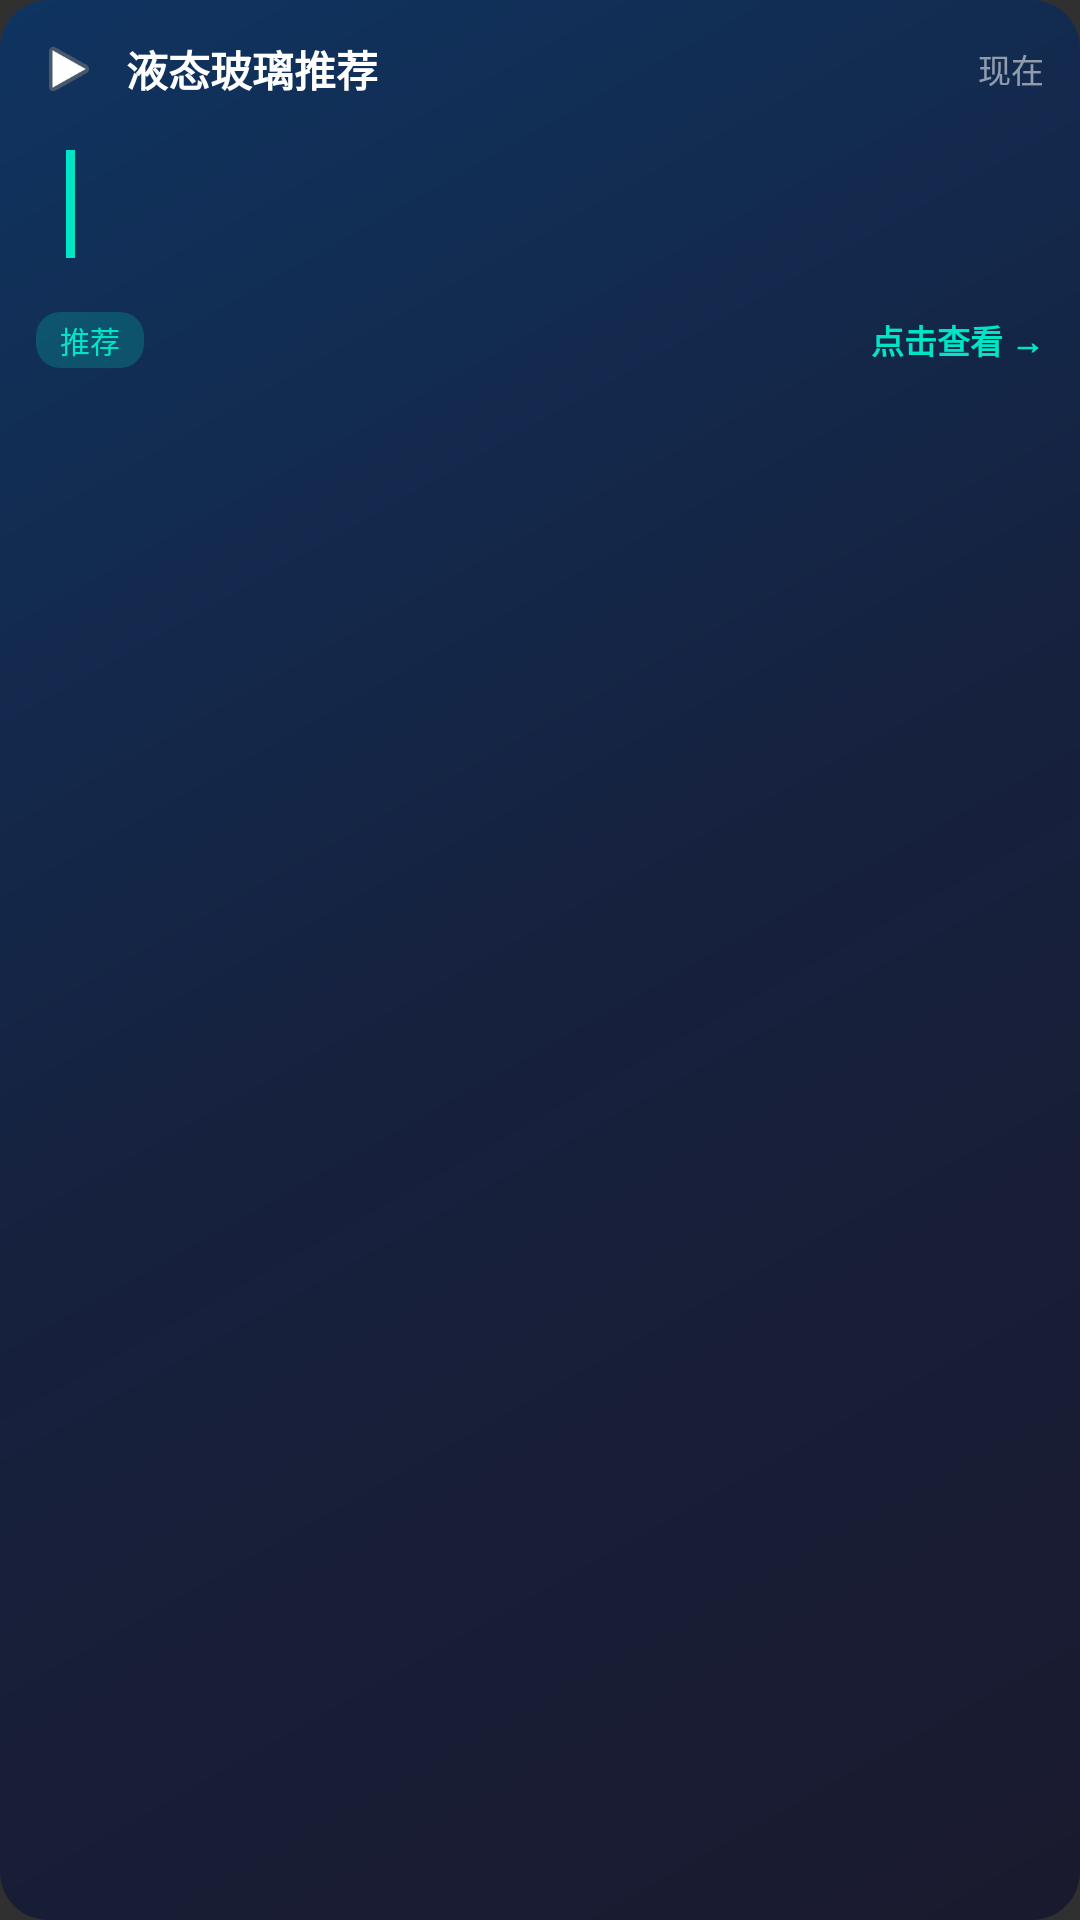

Icons on this 1080 × 1920 Android screen, each with its box as (x1, y1, x2, y2):
play: (49, 47, 89, 91)
